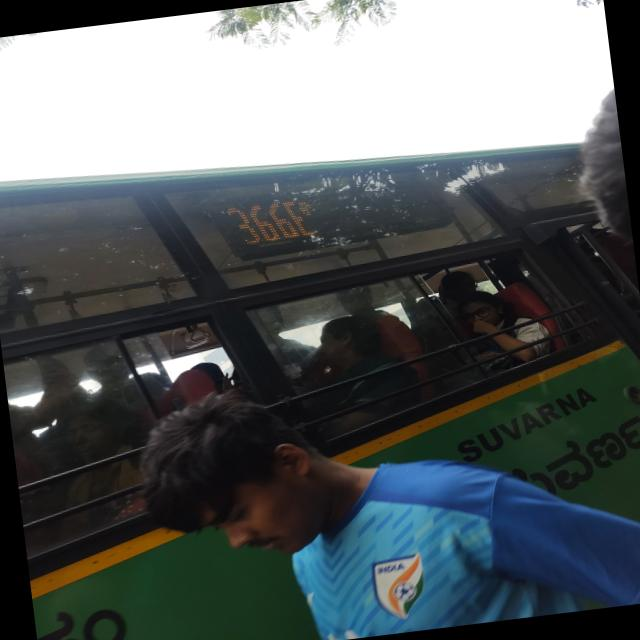bus: (0, 91, 640, 448)
display: (214, 172, 436, 258)
dnumber: (226, 193, 318, 250)
